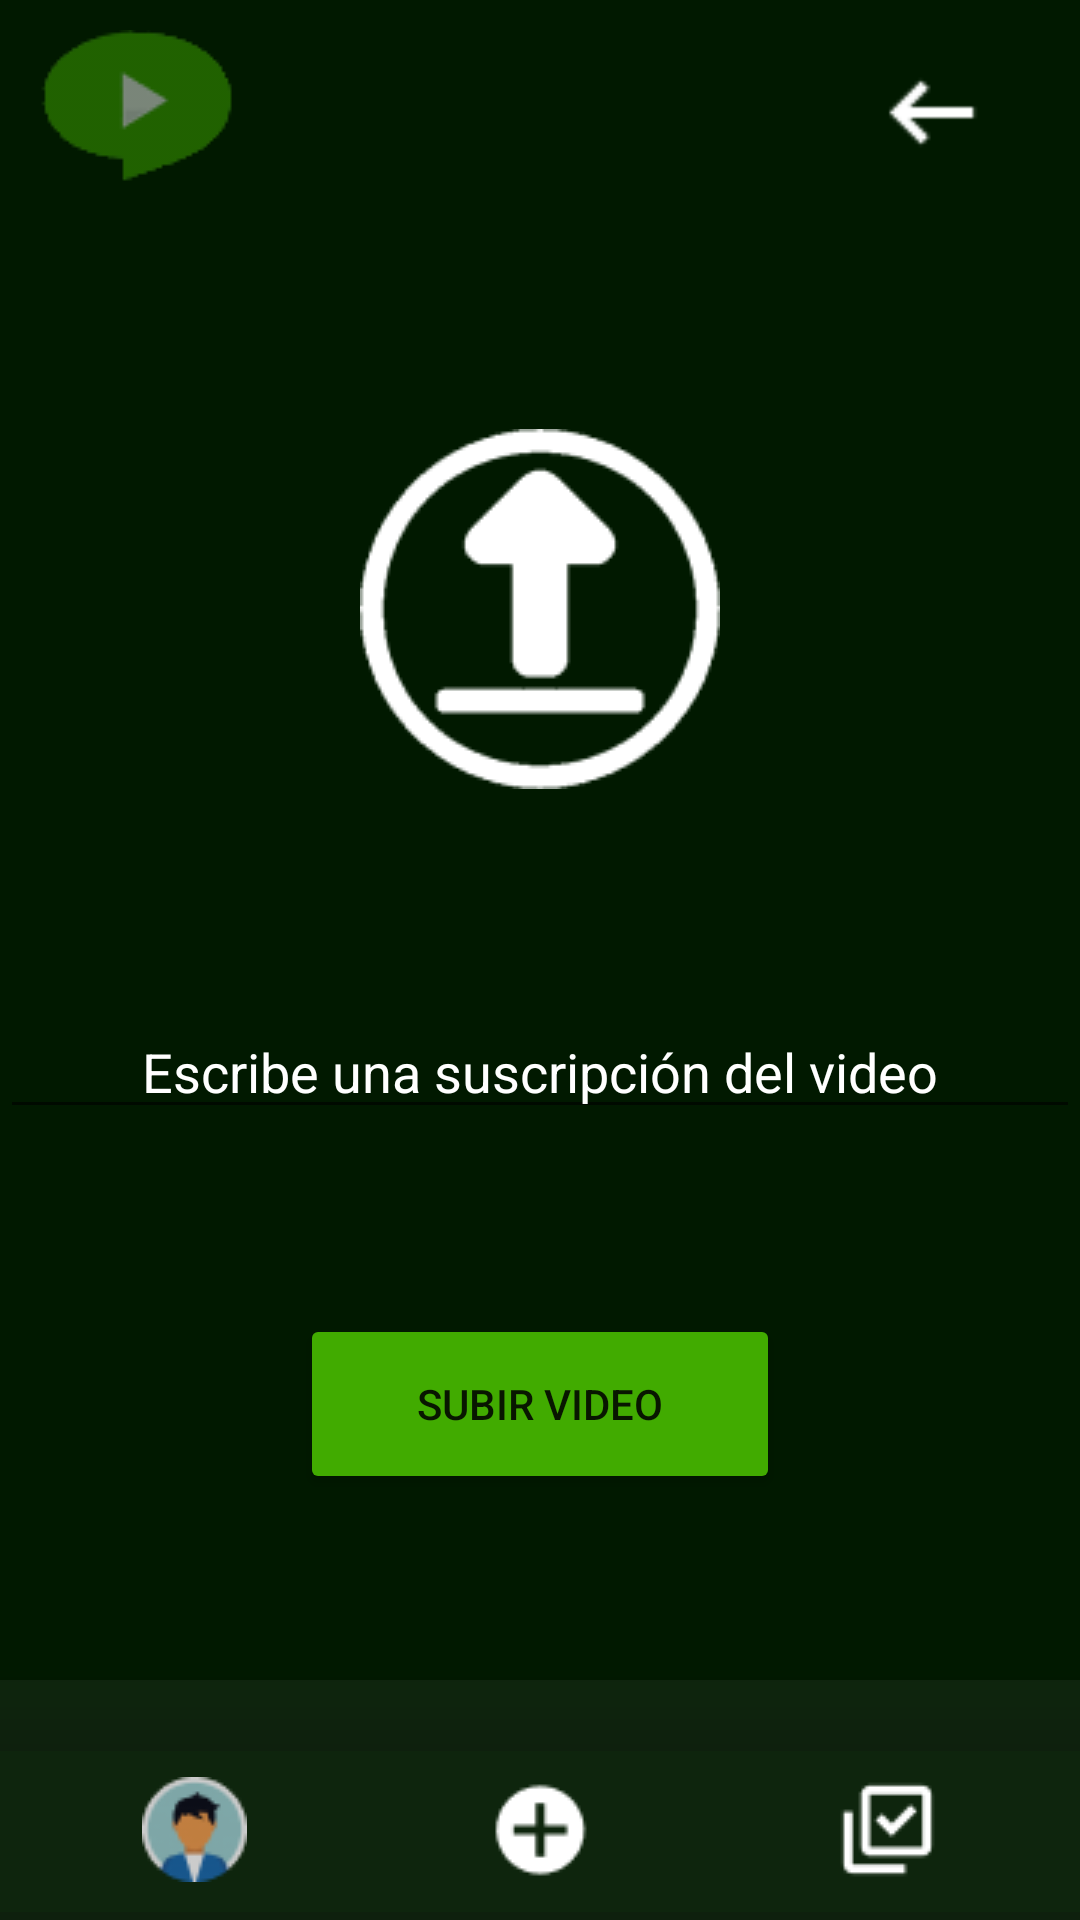

Icon bounding boxes for this 1080x1920 phone screenshot, format (x1, y1, x2, y2):
subirvideo: (360, 429, 720, 789)
